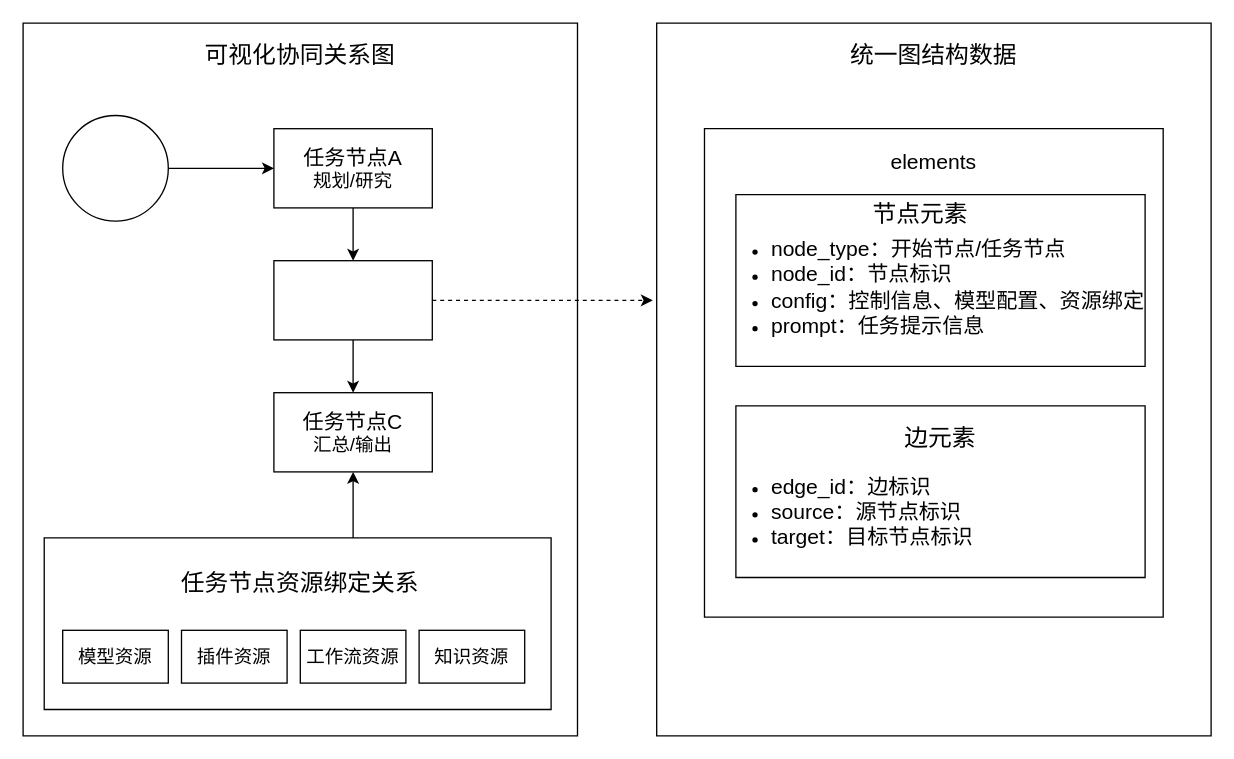
This 1234x759 diagram has some shape labels left out. The centre of each missing label's shape, as x and y in pixels:
任务节点B 检索/分析: point 352,299
开始节点: point 114,167
